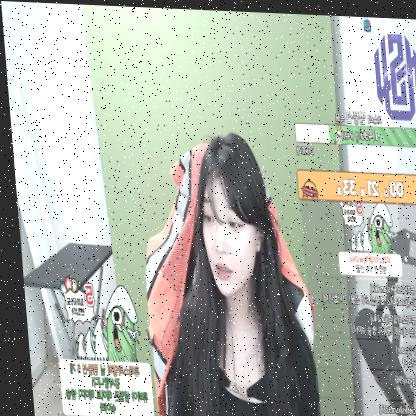donation: (46, 269, 145, 416), (330, 198, 397, 273)
streamer: (146, 126, 314, 416)
